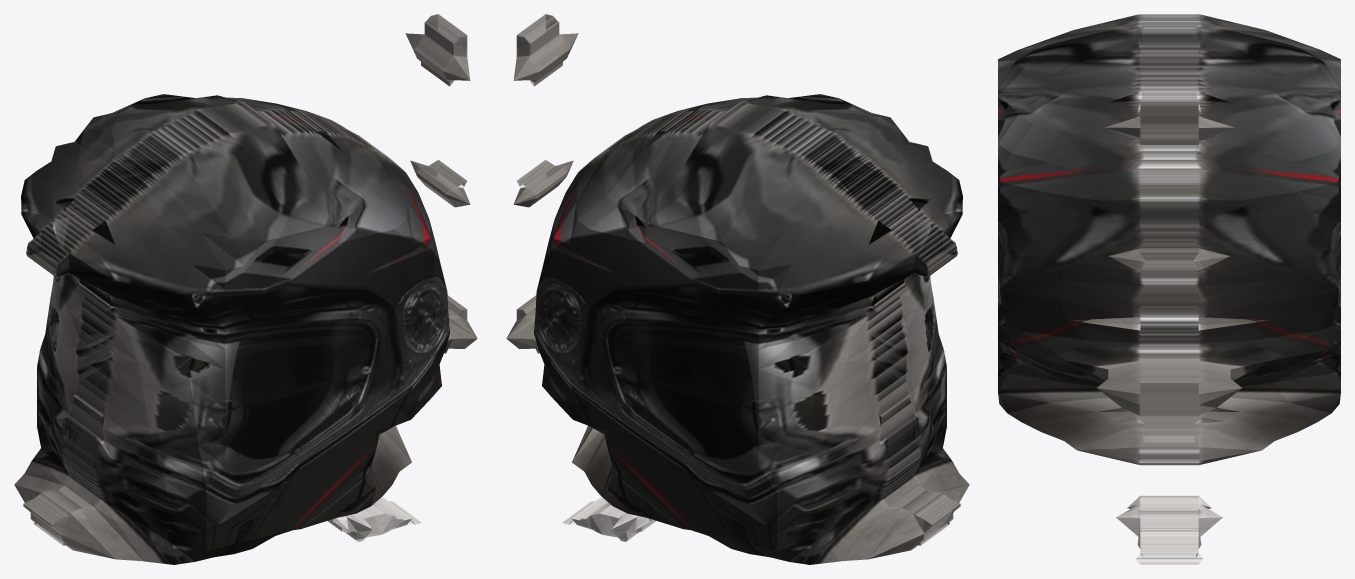
Rendered from quad-lock-vantage-adventure-helmet-064.glb.
The picture shows the model from 3 angles, left to right: view 1: azimuth 30°, elevation 25°; view 2: azimuth 150°, elevation 25°; view 3: azimuth 270°, elevation 25°; orthographic projection.
Parts seen in each view (by area): view 1: world; view 2: world; view 3: world.
Boxes of the visible parts, bbox=[...] form: world: bbox=[14, 14, 477, 564]; world: bbox=[506, 14, 969, 564]; world: bbox=[998, 14, 1340, 564].
Bounding box in the file's own units: 0.9044 × 1 × 0.64.
Materials: 1 (1 with a texture image).
